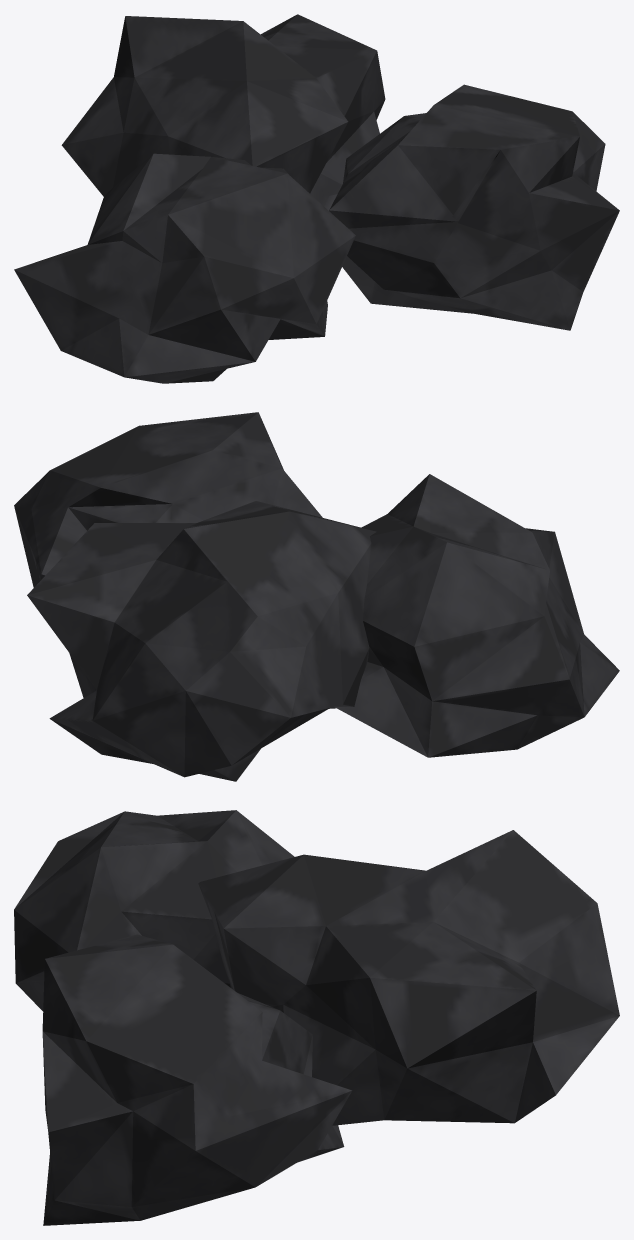
The model's file is coal_3.glb.
3 renders of one model, top to bottom at view 1: azimuth 30°, elevation 25°; view 2: azimuth 150°, elevation 25°; view 3: azimuth 270°, elevation 25°, orthographic. The views are drawn at different scales.
Parts seen in each view (by area): view 1: stone_3; view 2: stone_3; view 3: stone_3.
Part boxes in pixels (<box>): stone_3: <box>14,14,619,383</box>; stone_3: <box>14,412,619,781</box>; stone_3: <box>14,810,619,1225</box>.
Bounding box in the file's own units: 0.579 × 0.2242 × 0.4673.
1 material, 1 textured.
